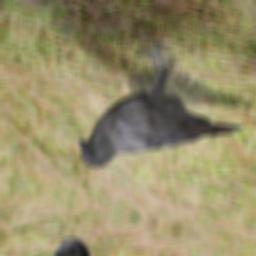Crow: (75, 24, 256, 208)
